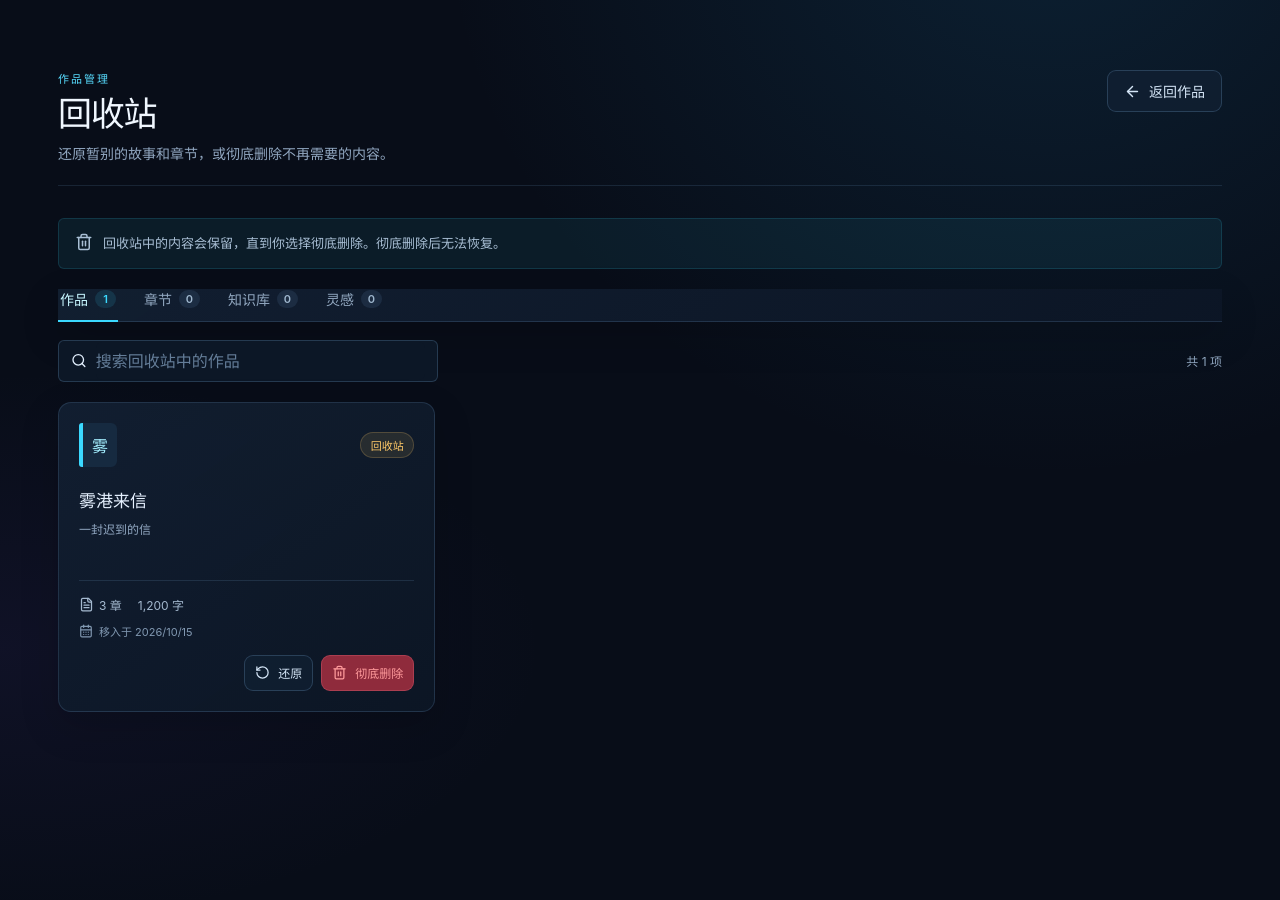
it: 回收站页面 › 确认后还原项目并保留原状态，然后从回收站移除该项目
Step 1. Click the button named "还原雾港来信" → (279, 673), box [244, 655, 313, 691]
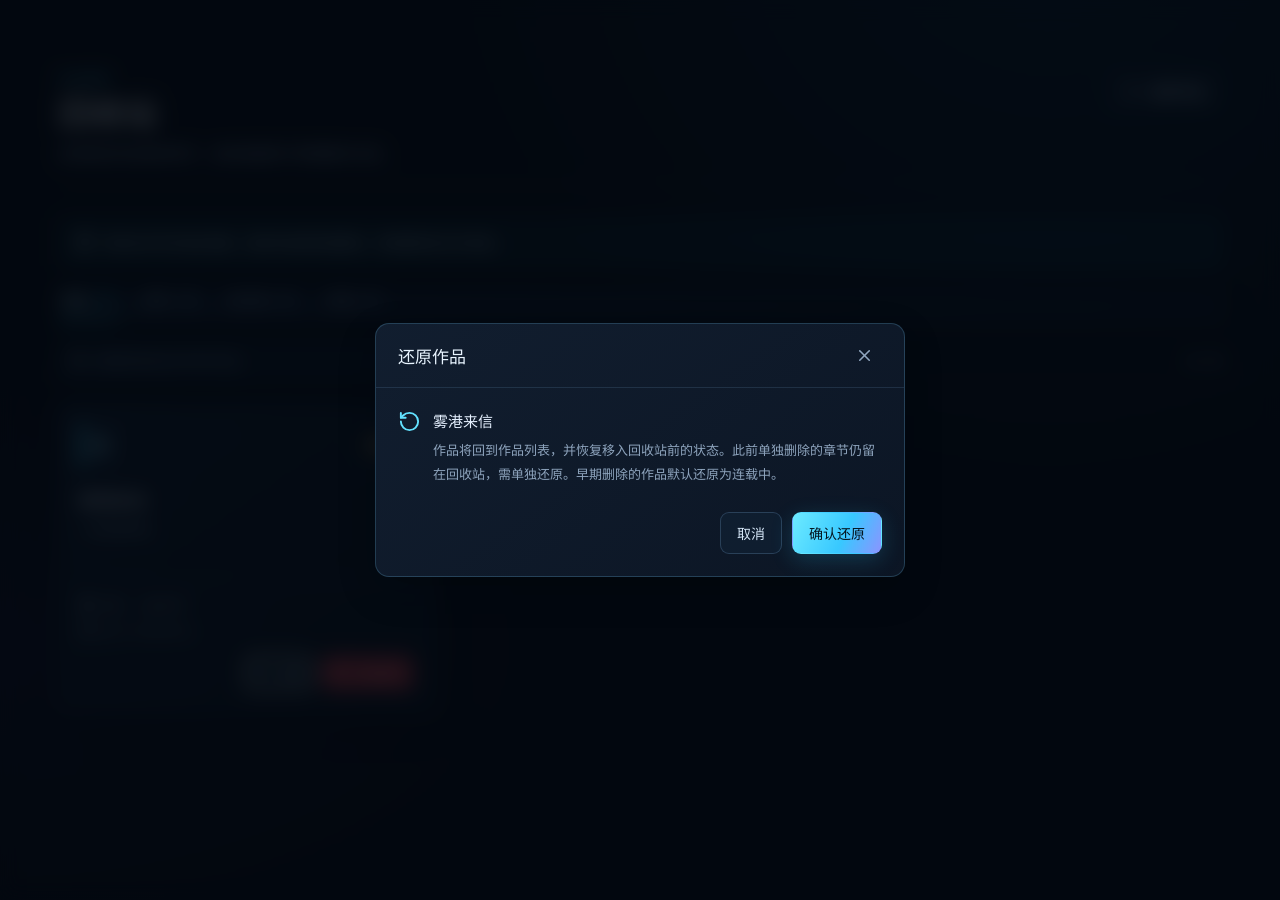
Now the text "恢复移入回收站前的状态" is shown, box [433, 442, 875, 482]
Step 2. Click the button "确认还原" → (837, 533), box [792, 512, 882, 554]
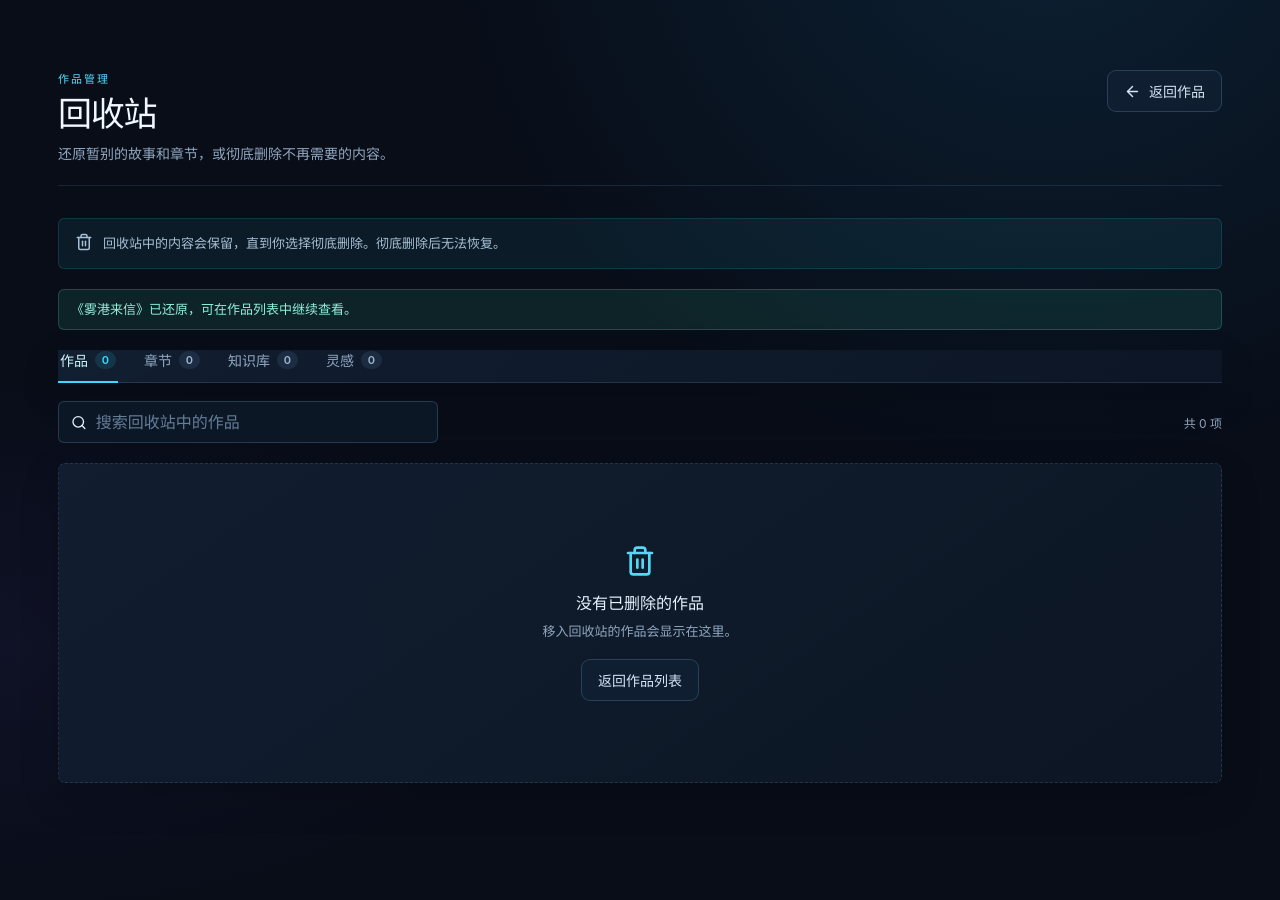
Now the message shows "已还原", box [71, 301, 357, 317]
